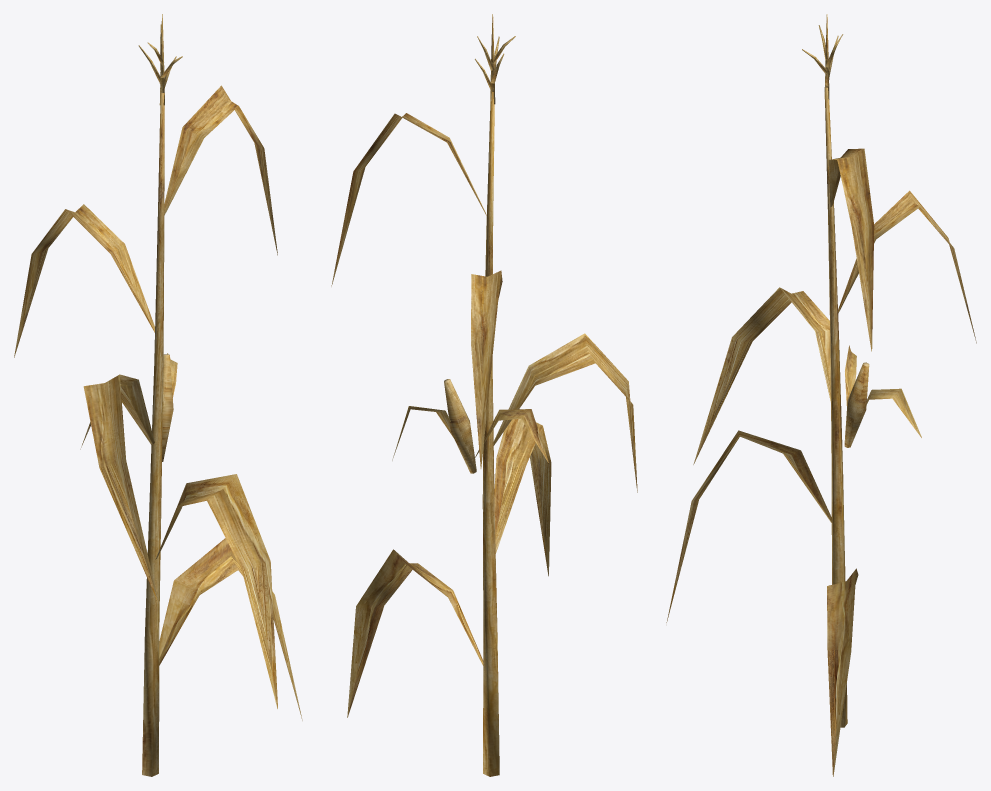
The model's file is Corn_A_Mid.fbx.
3 views of the same model, side by side, from view 1: azimuth 30°, elevation 25°; view 2: azimuth 150°, elevation 25°; view 3: azimuth 270°, elevation 25° (orthographic). The views are drawn at different scales.
Parts seen in each view (by area): view 1: Corn_A_Mid; view 2: Corn_A_Mid; view 3: Corn_A_Mid.
Boxes of the visible parts, x1,y1,x2,y2 form: Corn_A_Mid: (14,14,302,776); Corn_A_Mid: (331,14,637,776); Corn_A_Mid: (666,14,976,776).
Size of the model in its own units: 2.71 by 8 by 3.16.
1 material, 1 textured.
